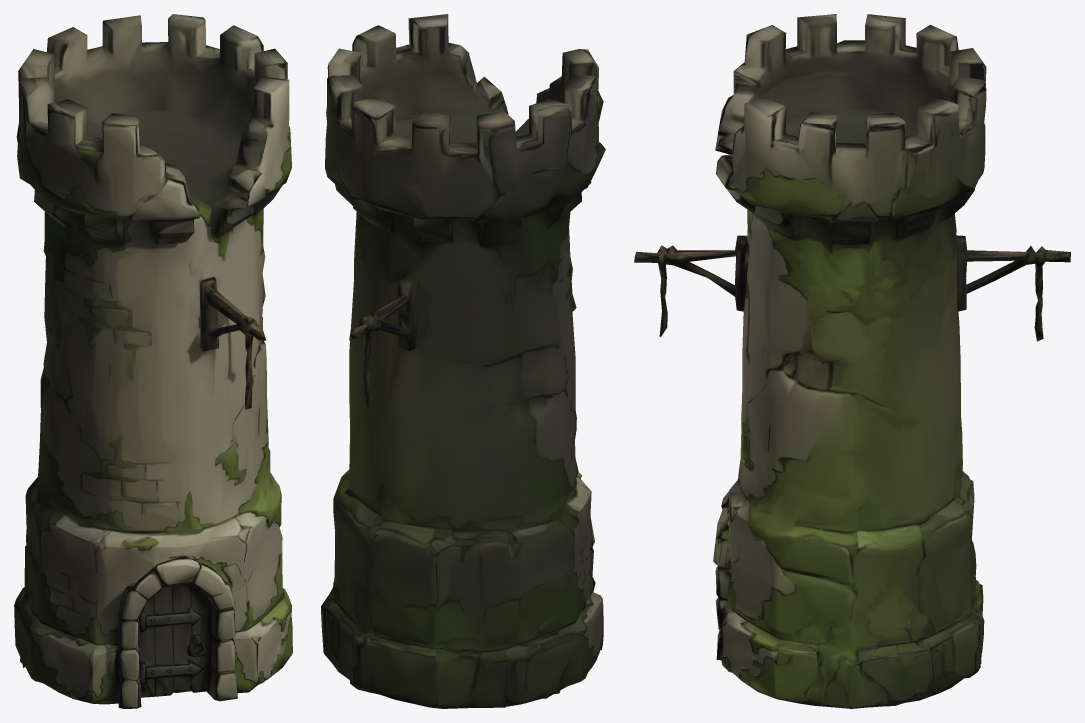
The model's file is PIPELINE3D-env_watchtower_ruin-batch2-1-delivery-model-fbx-160974b6747c-78284dd70c0d.fbx.
The picture shows the model from 3 angles, left to right: view 1: azimuth 30°, elevation 25°; view 2: azimuth 150°, elevation 25°; view 3: azimuth 270°, elevation 25°; orthographic projection.
Parts seen in each view (by area): view 1: tripo_node_610e3257-c5b9-42b8-a630-c6b28d844995; view 2: tripo_node_610e3257-c5b9-42b8-a630-c6b28d844995; view 3: tripo_node_610e3257-c5b9-42b8-a630-c6b28d844995.
Part boxes in pixels (x1,y1,x2,y2): tripo_node_610e3257-c5b9-42b8-a630-c6b28d844995: (14, 14, 292, 708); tripo_node_610e3257-c5b9-42b8-a630-c6b28d844995: (321, 14, 605, 708); tripo_node_610e3257-c5b9-42b8-a630-c6b28d844995: (634, 14, 1070, 708).
Size of the model in its own units: 395 by 900 by 611.
1 material, 1 textured.
